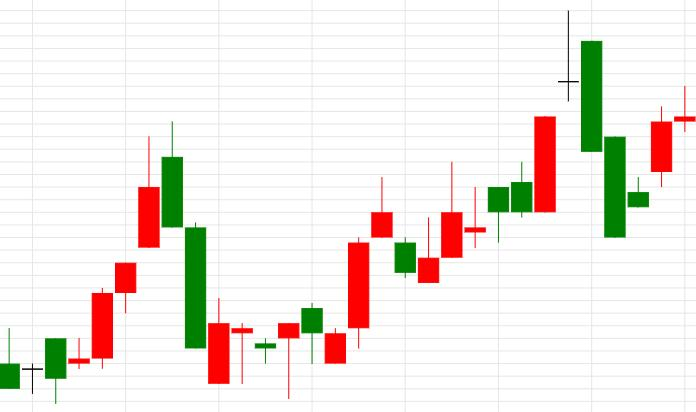shooting_star_fall: (277, 177, 393, 399)
